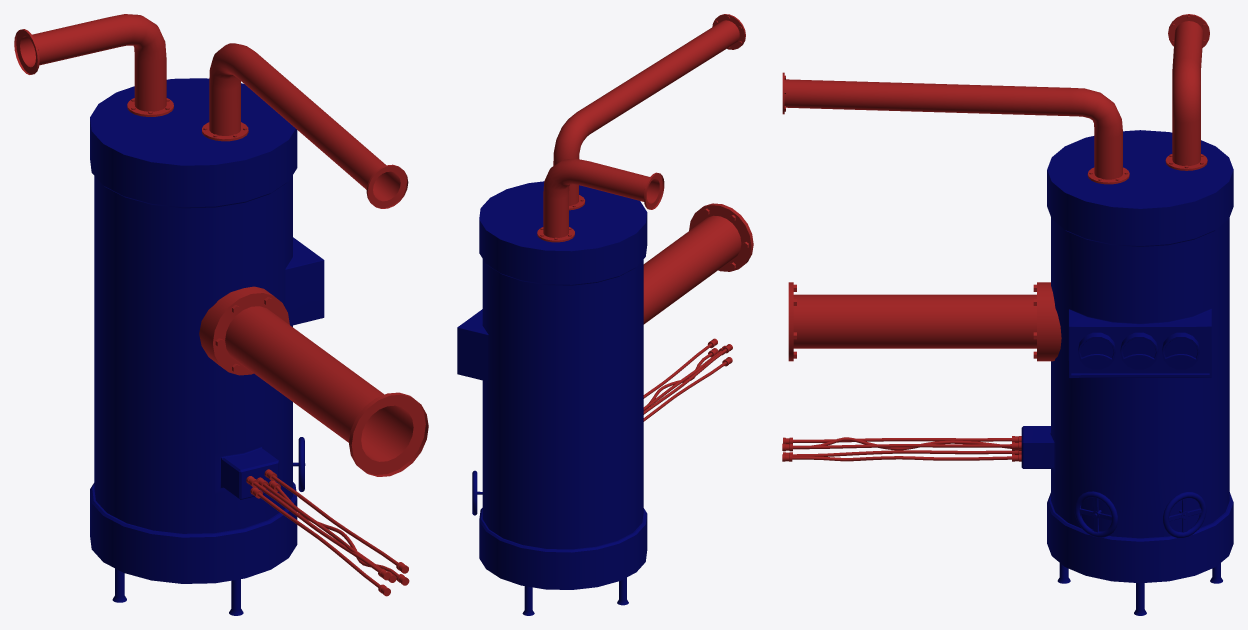
The model's file is machine2.fbx.
3 renders of one model, left to right at view 1: azimuth 30°, elevation 25°; view 2: azimuth 150°, elevation 25°; view 3: azimuth 270°, elevation 25°, orthographic. The views are drawn at different scales.
Visible parts, largest first — view 1: cuerpo, cano3, cano2, cano1, cable4, cable1, cable5, cable3, cable2; view 2: cuerpo, cano3, cano2, cano1, cable5, cable1; view 3: cuerpo, cano3, cano2, cano1, medidor2, medidor1, medidor3, volante2, volante1, cable2, cable4, cable1 (+2 smaller).
Boxes of the visible parts, left/top/right/bottom form: cuerpo: left=90, top=78, right=324, bottom=615; cano3: left=199, top=286, right=428, bottom=476; cano2: left=202, top=43, right=408, bottom=208; cano1: left=14, top=14, right=173, bottom=116; cable4: left=264, top=469, right=408, bottom=573; cable1: left=250, top=487, right=390, bottom=596; cable5: left=246, top=476, right=390, bottom=580; cable3: left=257, top=477, right=396, bottom=582; cable2: left=268, top=481, right=409, bottom=585; cuerpo: left=457, top=181, right=647, bottom=615; cano3: left=643, top=203, right=753, bottom=324; cano2: left=553, top=14, right=745, bottom=210; cano1: left=537, top=159, right=664, bottom=242; cable5: left=643, top=344, right=732, bottom=414; cable1: left=643, top=357, right=732, bottom=421; cuerpo: left=1021, top=130, right=1233, bottom=615; cano3: left=788, top=282, right=1061, bottom=361; cano2: left=782, top=72, right=1129, bottom=184; cano1: left=1165, top=14, right=1209, bottom=170; medidor2: left=1120, top=332, right=1158, bottom=369; medidor1: left=1162, top=332, right=1199, bottom=369; medidor3: left=1078, top=332, right=1115, bottom=369; volante2: left=1074, top=491, right=1117, bottom=537; volante1: left=1163, top=492, right=1206, bottom=537; cable2: left=782, top=454, right=1021, bottom=461; cable4: left=783, top=442, right=1021, bottom=451; cable1: left=783, top=450, right=1021, bottom=456.
Size of the model in its own units: 132 by 300 by 243.
